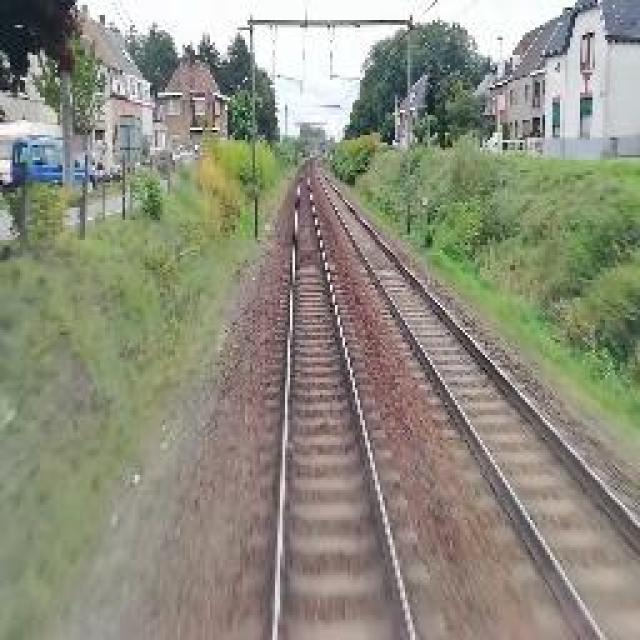rail: (246, 164, 461, 640)
